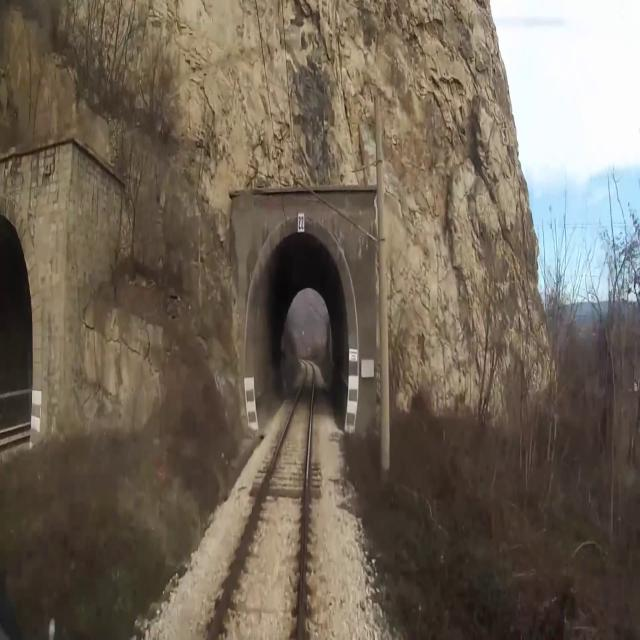rail-track: (210, 364, 312, 639), (0, 428, 30, 440)
